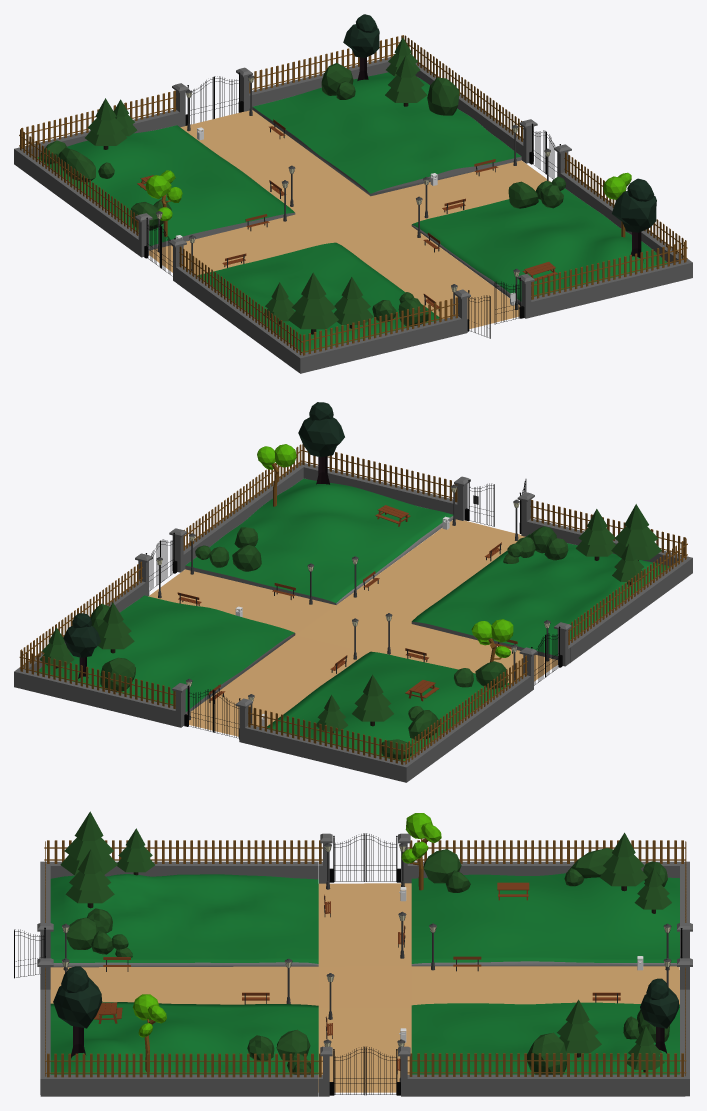
The model's file is CityPark.fbx.
3 renders of one model, top to bottom at view 1: azimuth 30°, elevation 25°; view 2: azimuth 150°, elevation 25°; view 3: azimuth 270°, elevation 25°, orthographic. The views are drawn at different scales.
Visible parts, largest first — view 1: terriccio, terriccio.001, MURO, abete, prova2.004, prova.002, prova.003, prova2, prova2.003, Icosphere.009, prova.004, prova (+12 smaller); view 2: terriccio, terriccio.001, MURO, abete, prova2, prova, prova.004, prova2.004, prova.002, prova2.002, Icosphere.009, prova2.003 (+12 smaller); view 3: terriccio, terriccio.001, MURO, abete, prova2.002, prova2.003, prova2, prova2.004, Icosphere.009, barre verticali.003, barre verticali.002, Icosphere.010 (+9 smaller).
Part boxes in pixels (x1,y1,x2,y2): terriccio: (37, 72, 667, 352); terriccio.001: (149, 110, 550, 328); MURO: (14, 57, 692, 373); abete: (85, 37, 427, 334); prova2.004: (179, 246, 302, 355); prova.002: (531, 241, 687, 299); prova.003: (302, 297, 458, 355); prova2: (19, 129, 138, 235); prova2.003: (404, 35, 523, 141); Icosphere.009: (612, 178, 656, 232); prova.004: (249, 35, 403, 93); prova: (21, 90, 176, 148); terriccio: (36, 478, 668, 761); terriccio.001: (148, 519, 557, 736); MURO: (14, 462, 692, 782); abete: (39, 504, 661, 733); prova2: (404, 655, 527, 764); prova: (248, 706, 404, 764); prova.004: (20, 650, 175, 708); prova2.004: (568, 538, 687, 645); prova.002: (301, 444, 457, 502); prova2.002: (183, 444, 301, 550); Icosphere.009: (298, 402, 344, 457); prova2.003: (19, 561, 142, 670); terriccio: (50, 873, 679, 1074); terriccio.001: (50, 883, 679, 1092); MURO: (37, 833, 692, 1096); abete: (60, 811, 671, 1072); prova2.002: (45, 1053, 322, 1077); prova2.003: (407, 1053, 686, 1076); prova2: (407, 840, 685, 863); prova2.004: (44, 840, 322, 863); Icosphere.009: (53, 966, 102, 1028); barre verticali.003: (329, 833, 400, 882); barre verticali.002: (329, 1046, 400, 1095); Icosphere.010: (640, 978, 679, 1028).
Bounding box in the file's own units: 5265 × 6874 × 1206.
